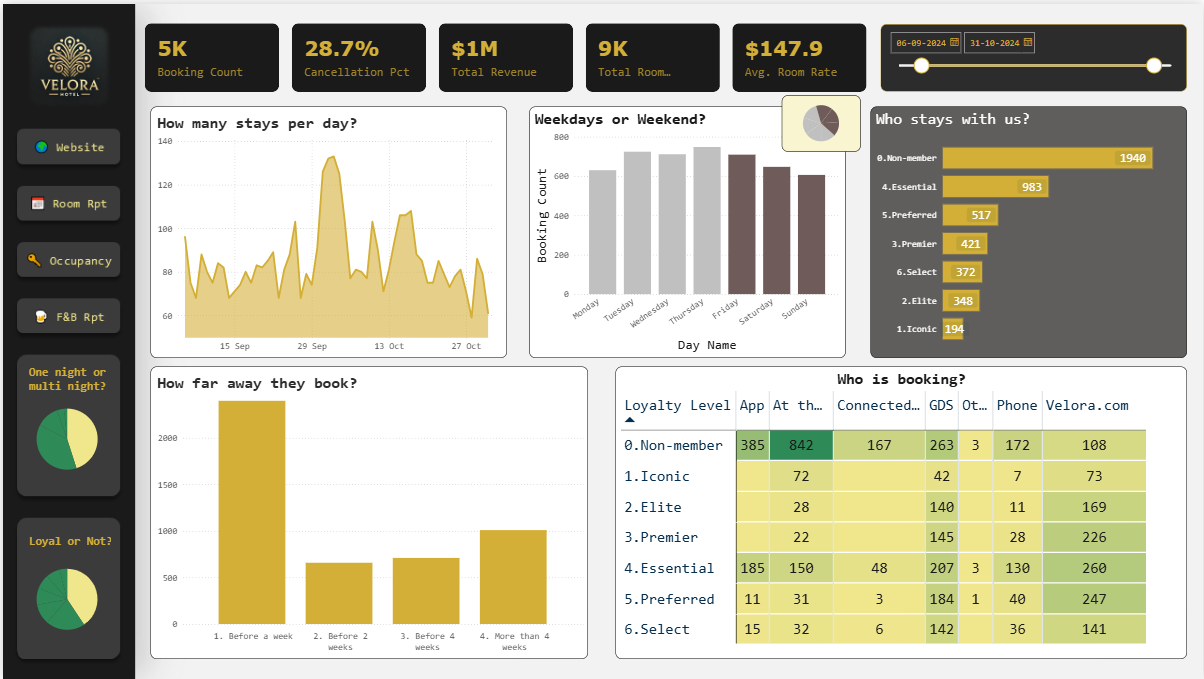

The dashboard page shown, as its layout file describes it:
{"tool":"powerbi","page":{"name":"Bookings Report BLANK","canvas":[1920,1080],"ordinal":0},"visuals":[{"type":"cardVisual","fields":{"Data":["bookings.Booking Count","bookings.Cancellation Pct","bookings.Total Revenue","bookings.Total Room Nights","bookings.Avg. Room Rate"]},"box":[221.7,25,1166.7,120],"z":0},{"type":"lineChart","title":"How many stays per day?","fields":{"Y":["bookings.Booking Count"],"Category":["bookings.Stay Date"]},"box":[236,164,570,402],"z":1000},{"type":"slicer","fields":{"Values":["bookings.Stay Date"]},"box":[1404,32,490,108],"z":2000},{"type":"clusteredColumnChart","title":"Weekdays or Weekend?","fields":{"Y":["bookings.Booking Count"],"Category":["bookings.Day Name"]},"box":[842,164,506,402],"z":3000},{"type":"clusteredBarChart","title":"Who stays with us?","fields":{"Y":["bookings.Booking Count"],"Category":["bookings.Loyalty Level"]},"box":[1388,164,506,402],"z":4000},{"type":"clusteredColumnChart","title":"How far away they book?","fields":{"Y":["bookings.Booking Count"],"Category":["bookings.How far away bucket"]},"box":[236,580,700,468],"z":5000},{"type":"pivotTable","title":"Who is booking?","fields":{"Rows":["bookings.Loyalty Level"],"Columns":["bookings.Booking Channel"],"Values":["bookings.Booking Count"]},"box":[980,580,914,468],"z":6000},{"type":"pieChart","fields":{"Category":["bookings.Day of Week"],"Y":["bookings.Booking Count"]},"box":[1246,146,126,90],"z":7000},{"type":"pieChart","title":"One night or multi night?","fields":{"Y":["bookings.Booking Count"],"Category":["bookings.Number of nights"]},"box":[24,566,158,218],"z":8000},{"type":"pieChart","title":"Loyal or Not?","fields":{"Category":["bookings.Loyalty Level"],"Y":["bookings.Booking Count"]},"box":[24,836,158,212],"z":9000}]}

Visuals, with their boxes in screenshot pixels (x1, y1, x2, y2):
cardVisual - bookings.Booking Count x bookings.Cancellation Pct: (x1=121, y1=19, x2=843, y2=93)
"How many stays per day?" lineChart: (x1=130, y1=105, x2=483, y2=353)
slicer - bookings.Stay Date: (x1=853, y1=23, x2=1156, y2=90)
"Weekdays or Weekend?" clusteredColumnChart: (x1=505, y1=105, x2=818, y2=353)
"Who stays with us?" clusteredBarChart: (x1=843, y1=105, x2=1156, y2=353)
"How far away they book?" clusteredColumnChart: (x1=130, y1=362, x2=563, y2=651)
"Who is booking?" pivotTable: (x1=590, y1=362, x2=1156, y2=651)
pieChart - bookings.Day of Week x bookings.Booking Count: (x1=755, y1=93, x2=833, y2=149)
"One night or multi night?" pieChart: (x1=0, y1=353, x2=97, y2=488)
"Loyal or Not?" pieChart: (x1=0, y1=520, x2=97, y2=651)
